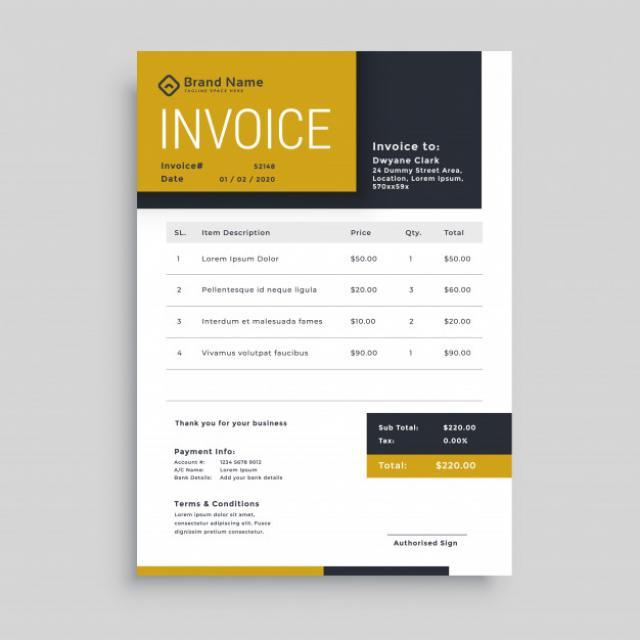customer_address: (369, 166, 466, 194)
customer_name: (369, 154, 446, 166)
invoice_date: (215, 174, 278, 187)
invoice_number: (252, 158, 280, 170)
invoice_subtotal: (438, 421, 482, 434)
invoice_total: (418, 456, 486, 474)
item_description: (194, 244, 328, 371)
item_quantity: (399, 247, 425, 370)
item_total_price: (434, 250, 482, 368)
item_unit_price: (343, 244, 383, 365)
supplier_name: (182, 74, 269, 88)
tax_rate: (434, 435, 496, 448)
